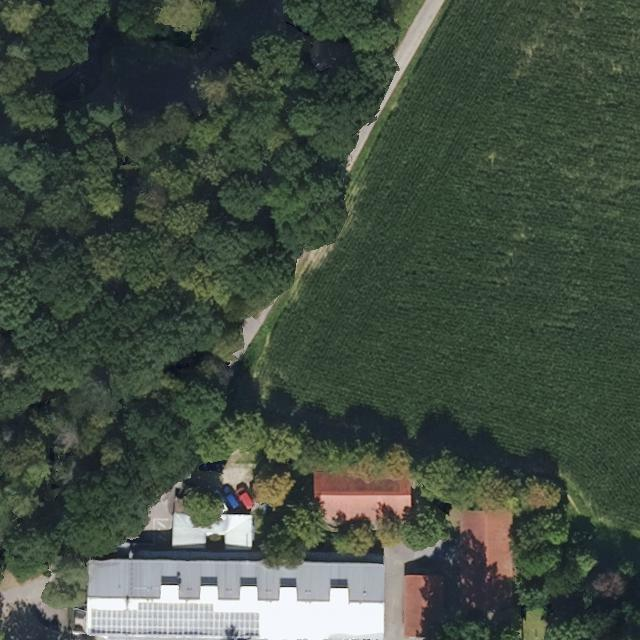PV: (86, 599, 262, 639)
